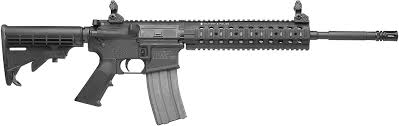gun: (1, 0, 396, 124)
